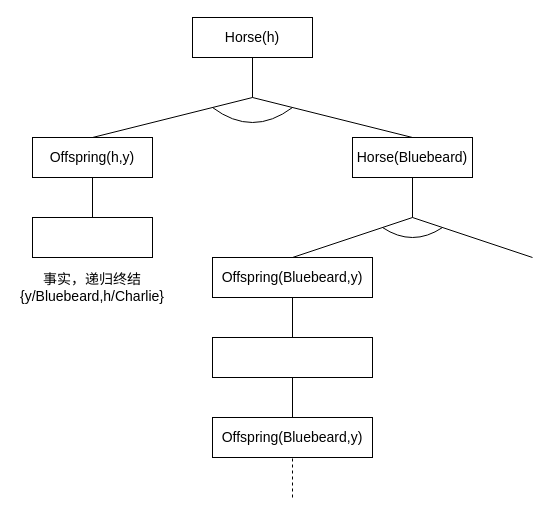
This 551x516 diagram has some shape labels left out. Each missing label, with the centre of its shape:
Parent(y,Bluebeard): point 292,357
Parent(y,h): point 92,237
